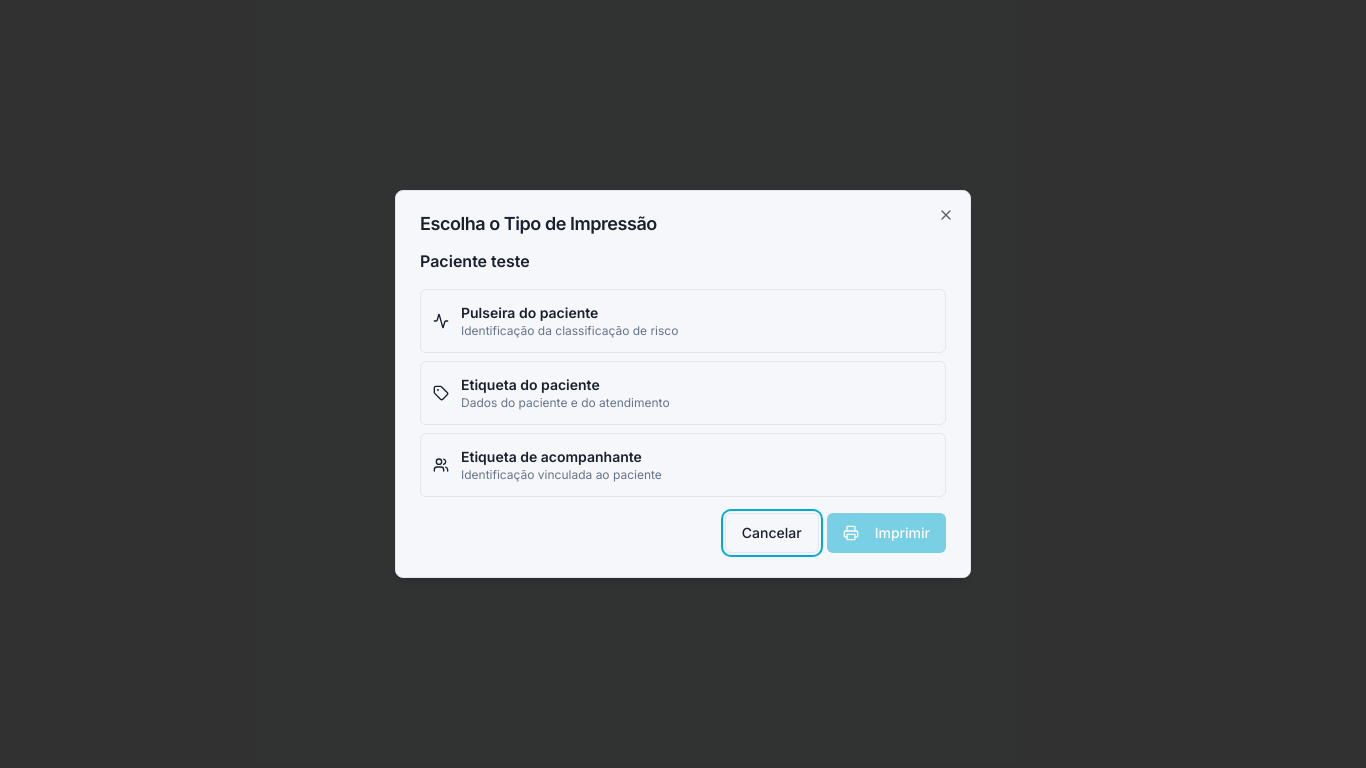
fluxo de identificação hospitalar › seleção obrigatória impede impressão antes de escolher
Expected: the button "Imprimir" is disabled, [827, 513, 946, 553]
Click the radio button labelled "Etiqueta do paciente Dados do paciente e do atendimento".
click(530, 384)  # box [420, 361, 946, 425]
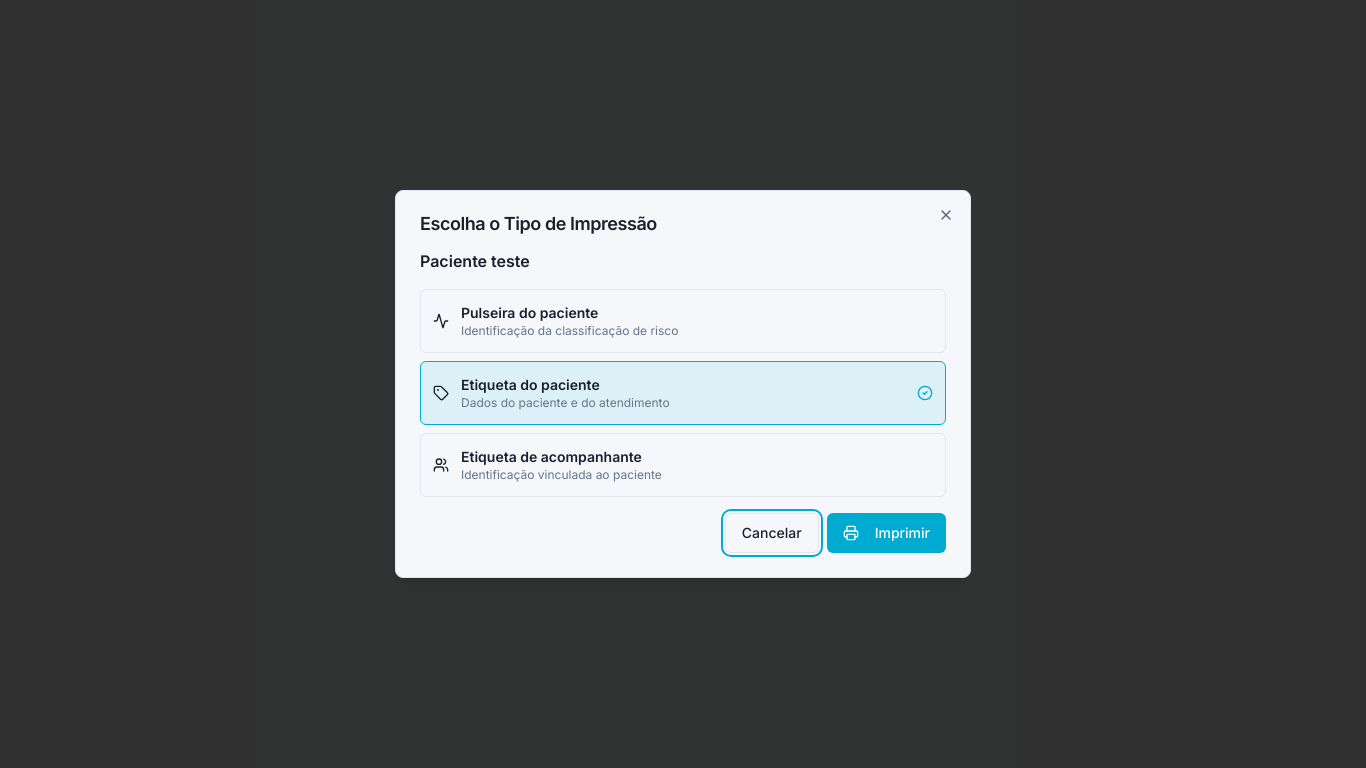
Expected: the button "Imprimir" is enabled, [827, 513, 946, 553]
